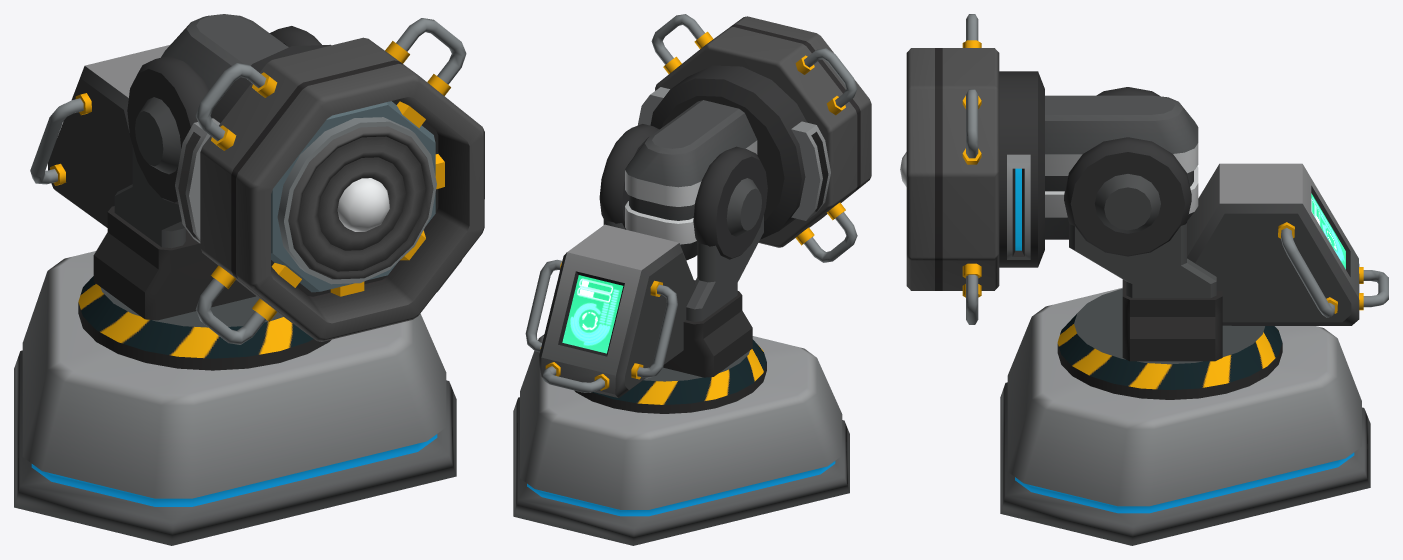
File: Turret_008.glb
The picture shows the model from 3 angles, left to right: view 1: azimuth 30°, elevation 25°; view 2: azimuth 150°, elevation 25°; view 3: azimuth 270°, elevation 25°; orthographic projection. The views are drawn at different scales.
Visible parts, largest first — view 1: Turret_008, Turret_008_body_001; view 2: Turret_008, Turret_008_body_001; view 3: Turret_008, Turret_008_body_001.
Part boxes in pixels (x1,y1,x2,y2): Turret_008: (14, 26, 456, 545); Turret_008_body_001: (161, 14, 484, 344); Turret_008: (513, 124, 849, 545); Turret_008_body_001: (625, 14, 871, 262); Turret_008: (1000, 87, 1388, 545); Turret_008_body_001: (900, 14, 1198, 324).
Bounding box in the file's own units: 1.47 × 1.53 × 1.68.
Materials: 3 (3 with a texture image).
